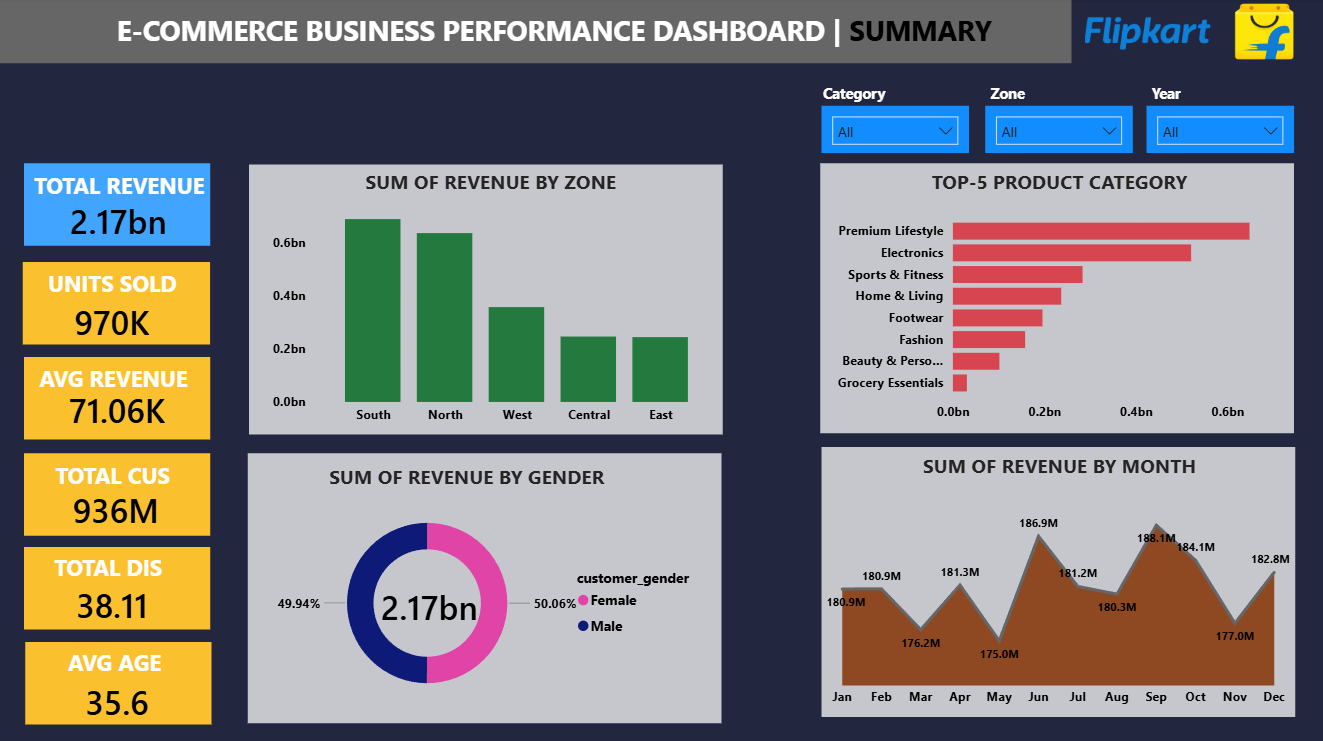

The page's visual inventory and layout, read from the dashboard file:
{"tool":"powerbi","page":{"name":"SUMMARY","canvas":[1280,720],"ordinal":0},"visuals":[{"type":"shape","box":[25.3,622.5,179.8,79.6],"z":0},{"type":"shape","box":[24.1,439.9,179.8,79.6],"z":1000},{"type":"shape","box":[24.4,347.2,179.8,79.6],"z":2000},{"type":"shape","box":[0,0,1035.1,63.9],"z":3000},{"type":"shape","box":[24.4,160.5,179.8,79.6],"z":4000},{"type":"textbox","box":[29,161.7,183.4,39.8],"z":5000},{"type":"cardVisual","fields":{"Data":["Sum(sales.revenue)"]},"box":[25.3,173.7,181,82],"z":6000},{"type":"image","box":[1021.9,0,258.2,63.9],"z":7000},{"type":"textbox","box":[61.5,622.5,108.6,38.6],"z":8000},{"type":"cardVisual","fields":{"Data":["sales.AVG AGE"]},"box":[29,641.8,170.1,74.8],"z":9000},{"type":"textbox","box":[33.8,348.7,173.7,38.6],"z":10000},{"type":"cardVisual","fields":{"Data":["sales.AVG REV PER ORDER"]},"box":[29,359.5,170.1,74.8],"z":11000},{"type":"slicer","fields":{"Values":["sales.year"]},"box":[1107.5,105,142.4,45.8],"z":12000},{"type":"textbox","box":[101.3,8.4,961.5,55.5],"z":13000},{"type":"shape","box":[241.5,161.4,457.2,260.6],"z":14000},{"type":"shape","box":[792.6,160.5,457.2,260.6],"z":15000},{"type":"shape","box":[23.2,256.2,181,79.6],"z":16000},{"type":"shape","box":[240.1,440.4,457.2,260.6],"z":17000},{"type":"shape","box":[793.8,434.3,457.2,260.6],"z":18000},{"type":"columnChart","fields":{"Category":["sales.zone"],"Y":["Sum(sales.revenue)"]},"box":[258.9,197.6,440.4,223.2],"z":19000},{"type":"textbox","box":[348.7,160.5,260.6,35],"z":20000},{"type":"textbox","box":[895.2,160.5,279.9,38.6],"z":21000},{"type":"textbox","box":[313.7,445.2,312.5,35],"z":22000},{"type":"textbox","box":[886.7,434.3,298,35],"z":23000},{"type":"donutChart","fields":{"Category":["sales.customer_gender"],"Y":["Sum(sales.revenue)"]},"box":[264.2,472.9,429.5,224.4],"z":24000},{"type":"barChart","fields":{"Y":["Sum(sales.revenue)"],"Category":["sales.category"]},"box":[793.8,196.6,457.2,222],"z":25000},{"type":"areaChart","fields":{"Category":["sales.MONTH"],"Y":["Sum(sales.revenue)"]},"box":[793.8,480.2,457.2,213.5],"z":26000},{"type":"shape","box":[24.1,530.8,179.8,79.6],"z":27000},{"type":"cardVisual","fields":{"Data":["Sum(sales.units_sold)"]},"box":[24.4,275.6,170.1,74.8],"z":28000},{"type":"textbox","box":[42.5,257.5,142.4,38.6],"z":29000},{"type":"cardVisual","fields":{"Data":["Sum(sales.TOTAL CUSTOMER)"]},"box":[27.7,456,170.1,74.8],"z":30000},{"type":"textbox","box":[49.5,441.6,132.7,38.6],"z":31000},{"type":"textbox","box":[48.3,530.8,149.6,38.6],"z":32000},{"type":"cardVisual","fields":{"Data":["sales.Avg dis"]},"box":[38.6,547.7,141.2,74.8],"z":33000},{"type":"slicer","fields":{"Values":["sales.zone"]},"box":[951.9,105,142.4,45.8],"z":34000},{"type":"slicer","fields":{"Values":["sales.category"]},"box":[793.8,105,142.4,45.8],"z":35000},{"type":"textbox","box":[790.2,78.4,85.7,35],"z":36000},{"type":"textbox","box":[951.9,78.4,59.1,39.8],"z":37000},{"type":"textbox","box":[1107.5,78.4,83.2,35],"z":38000},{"type":"cardVisual","fields":{"Data":["Sum(sales.revenue)"]},"box":[335.4,553.8,160.5,68.8],"z":39000}]}

Visuals, with their boxes in screenshot pixels (x1, y1, x2, y2), scaled from the page's 1280x720 canvas onto the 1323x741 screenshot:
shape: bbox=[26, 641, 212, 723]
shape: bbox=[25, 453, 211, 535]
shape: bbox=[25, 357, 211, 439]
shape: bbox=[0, 0, 1070, 66]
shape: bbox=[25, 165, 211, 247]
textbox: bbox=[30, 166, 220, 207]
cardVisual - Sum(sales.revenue): bbox=[26, 179, 213, 263]
image: bbox=[1056, 0, 1322, 66]
textbox: bbox=[64, 641, 176, 680]
cardVisual - sales.AVG AGE: bbox=[30, 661, 206, 738]
textbox: bbox=[35, 359, 214, 399]
cardVisual - sales.AVG REV PER ORDER: bbox=[30, 370, 206, 447]
slicer - sales.year: bbox=[1145, 108, 1292, 155]
textbox: bbox=[105, 9, 1099, 66]
shape: bbox=[250, 166, 722, 434]
shape: bbox=[819, 165, 1292, 433]
shape: bbox=[24, 264, 211, 346]
shape: bbox=[248, 453, 721, 721]
shape: bbox=[820, 447, 1293, 715]
columnChart - sales.zone x Sum(sales.revenue): bbox=[268, 203, 723, 433]
textbox: bbox=[360, 165, 630, 201]
textbox: bbox=[925, 165, 1215, 205]
textbox: bbox=[324, 458, 647, 494]
textbox: bbox=[916, 447, 1224, 483]
donutChart - sales.customer_gender x Sum(sales.revenue): bbox=[273, 487, 717, 718]
barChart - Sum(sales.revenue) x sales.category: bbox=[820, 202, 1293, 431]
areaChart - sales.MONTH x Sum(sales.revenue): bbox=[820, 494, 1293, 714]
shape: bbox=[25, 546, 211, 628]
cardVisual - Sum(sales.units_sold): bbox=[25, 284, 201, 361]
textbox: bbox=[44, 265, 191, 305]
cardVisual - Sum(sales.TOTAL CUSTOMER): bbox=[29, 469, 204, 546]
textbox: bbox=[51, 454, 188, 494]
textbox: bbox=[50, 546, 205, 586]
cardVisual - sales.Avg dis: bbox=[40, 564, 186, 641]
slicer - sales.zone: bbox=[984, 108, 1131, 155]
slicer - sales.category: bbox=[820, 108, 968, 155]
textbox: bbox=[817, 81, 905, 117]
textbox: bbox=[984, 81, 1045, 122]
textbox: bbox=[1145, 81, 1231, 117]
cardVisual - Sum(sales.revenue): bbox=[347, 570, 513, 641]
